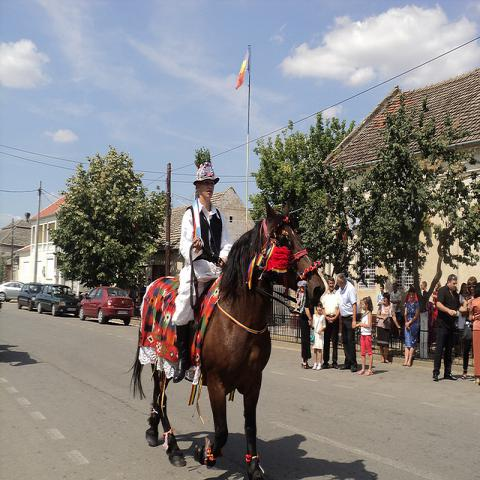car: (78, 287, 134, 325), (34, 284, 82, 317), (17, 282, 44, 311), (0, 282, 24, 302)
